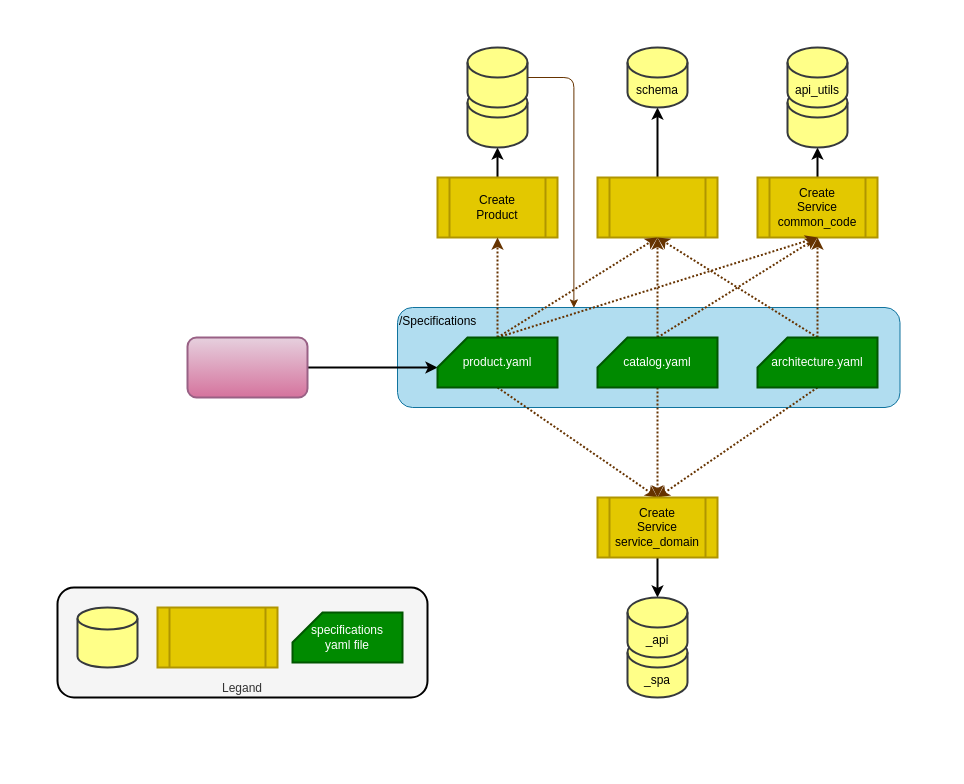
The diagram is 964 pixels wide and 784 high, and some of its shapes have lost their labels. The centre of each missing label's shape, as x and y in pixels:
"Automation (runbook)" goes at pixel 217 637.
"Create Service schema" goes at pixel 657 207.
"GitHub repo" goes at pixel 107 637.
"Onboarding Interview" goes at pixel 247 367.
"runbook" goes at pixel 497 117.
"spa_utils" goes at pixel 817 117.
"umbrella" goes at pixel 497 77.
